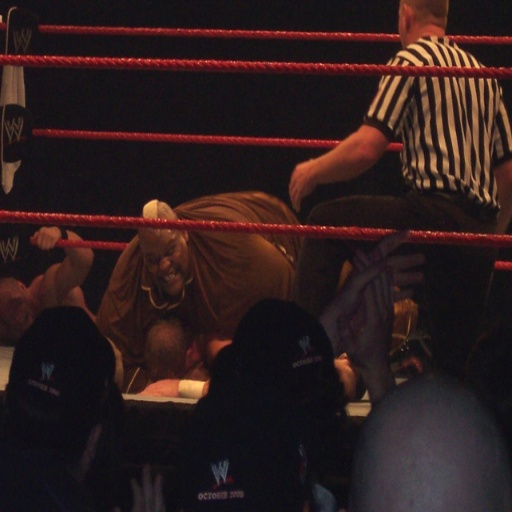hand: (332, 224, 425, 326), (336, 245, 395, 387), (128, 460, 166, 510), (288, 160, 310, 213), (131, 377, 178, 396), (33, 224, 63, 251)
